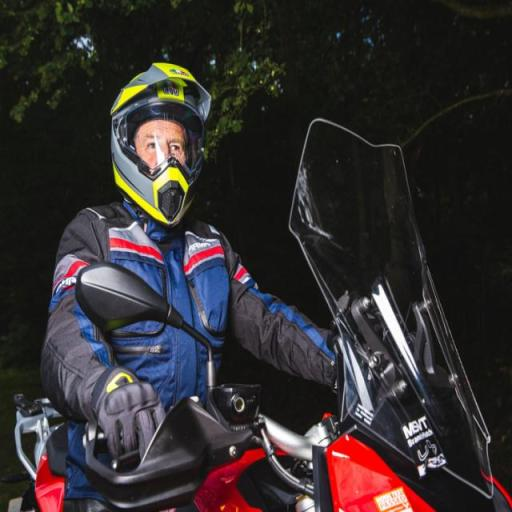Helmet: (112, 64, 210, 225)
Motor: (36, 330, 502, 512)
